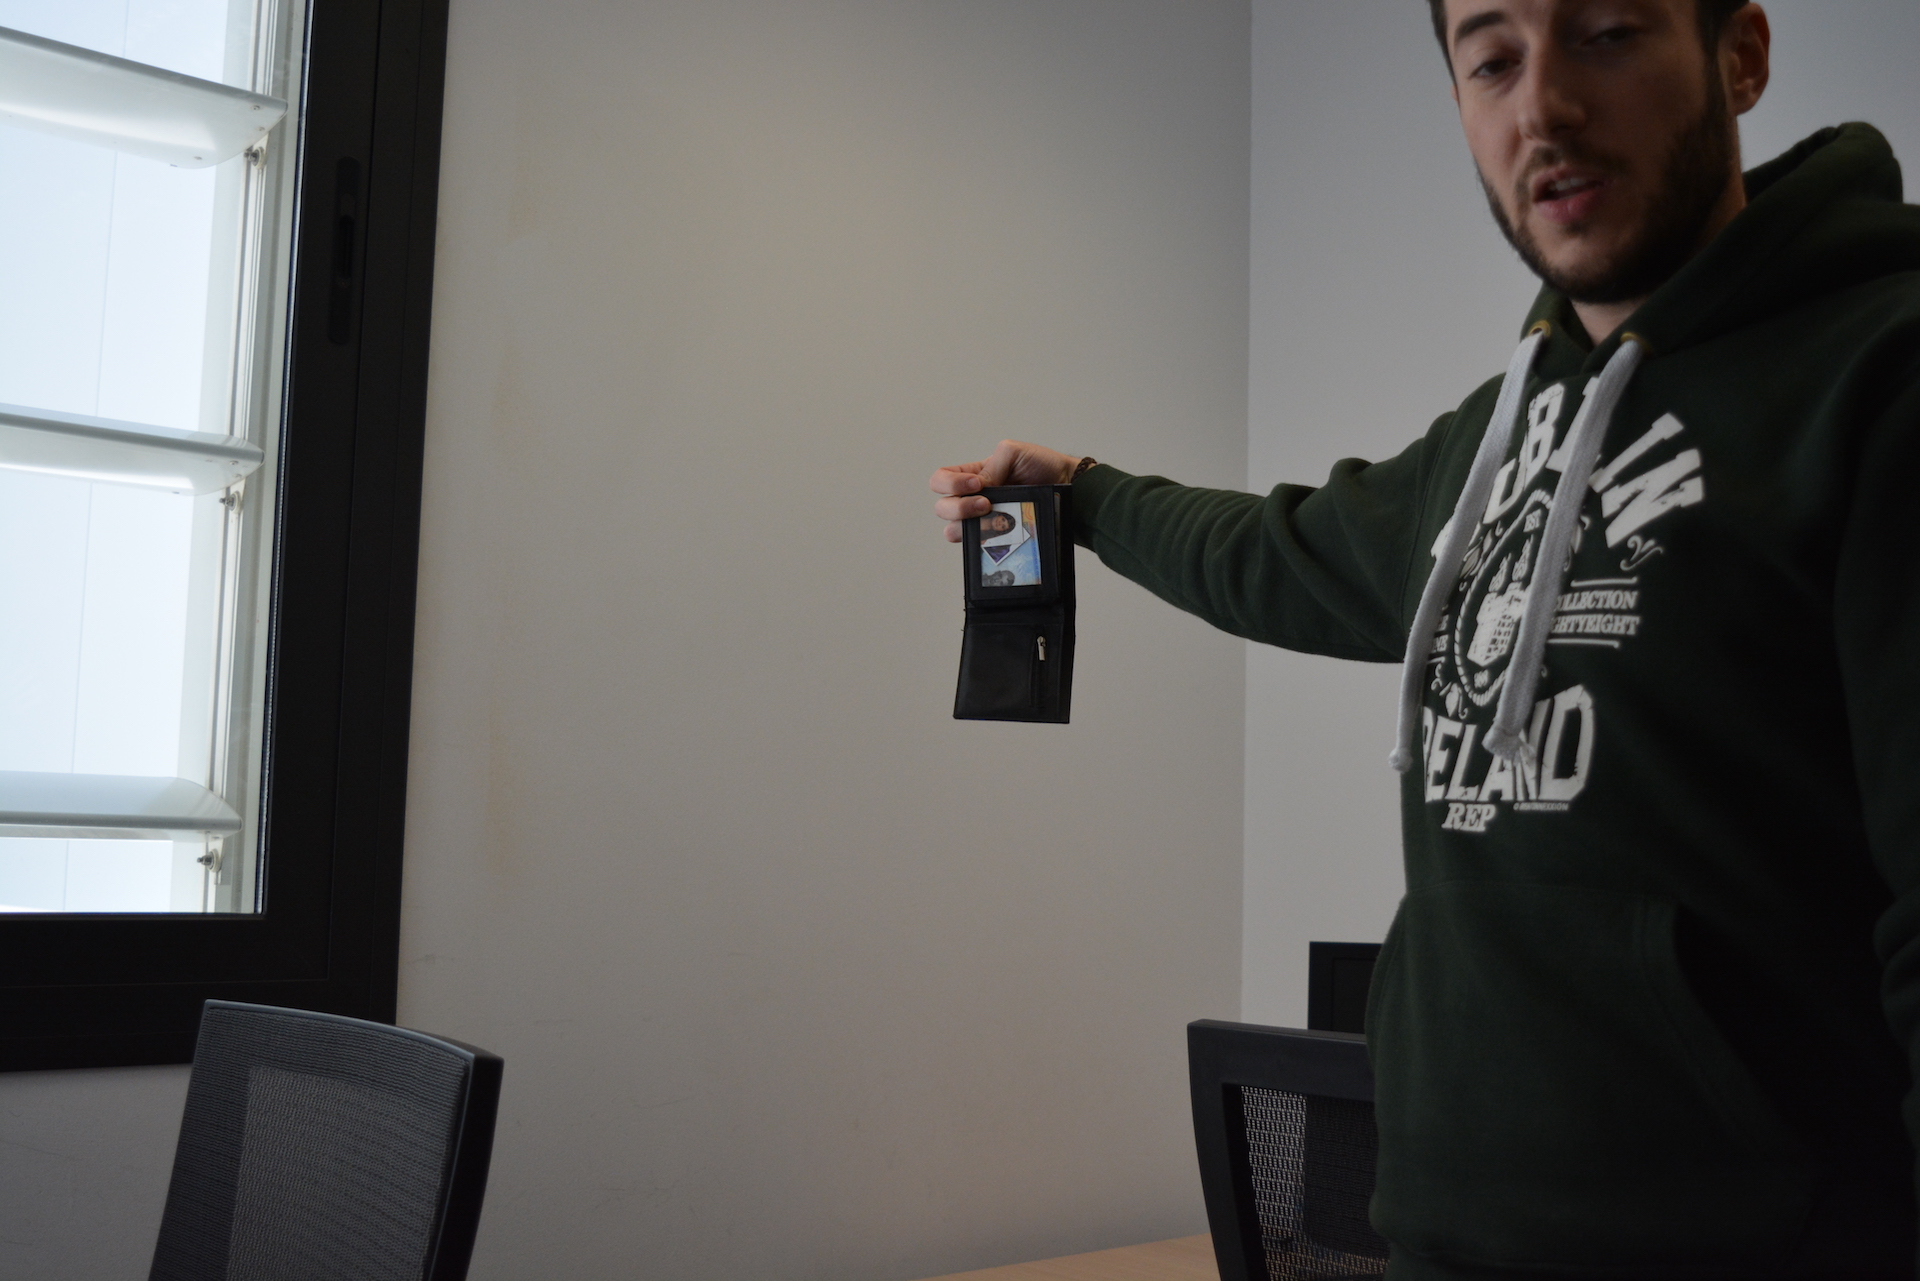monedero: (951, 482, 1078, 725)
